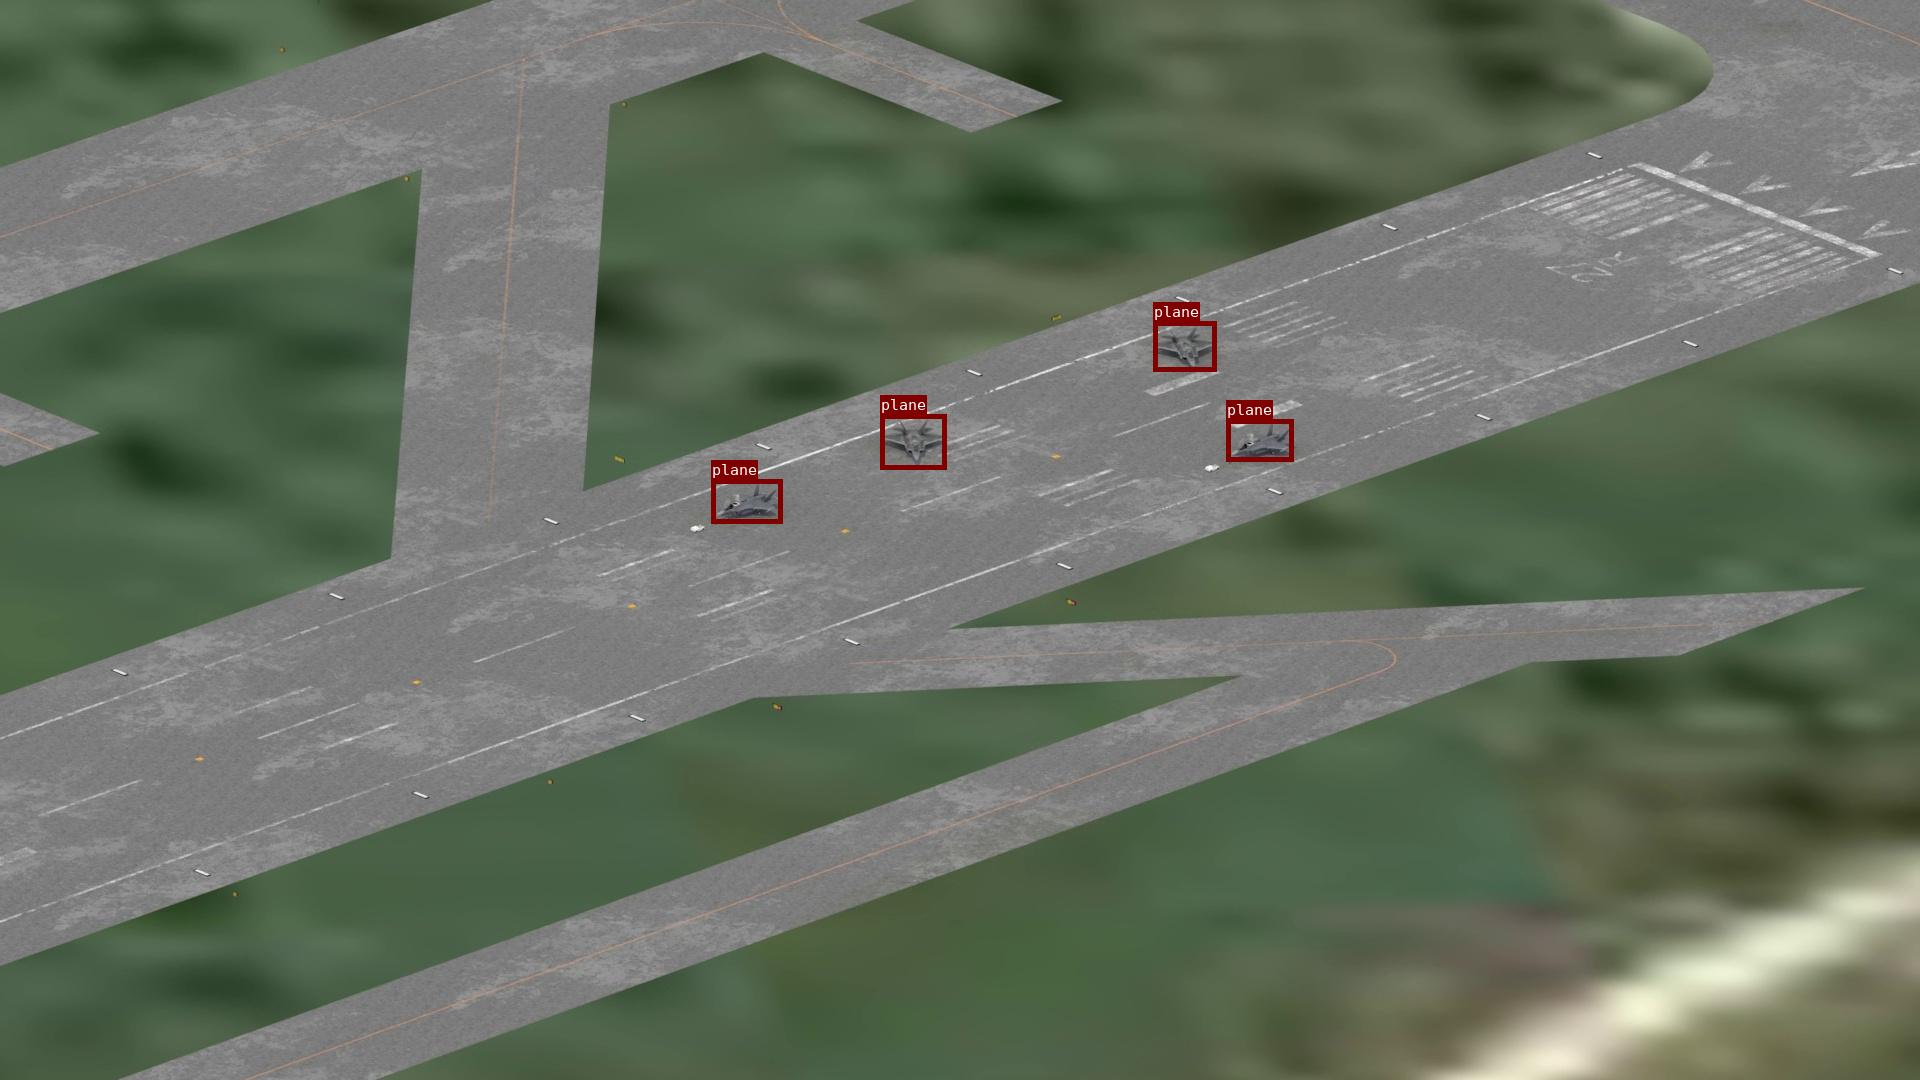plane: (880, 414, 945, 469), (711, 479, 782, 524), (1153, 320, 1216, 371), (1226, 419, 1294, 462)
